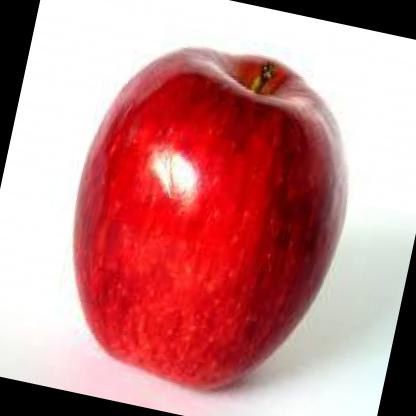apple: (42, 20, 376, 416)
